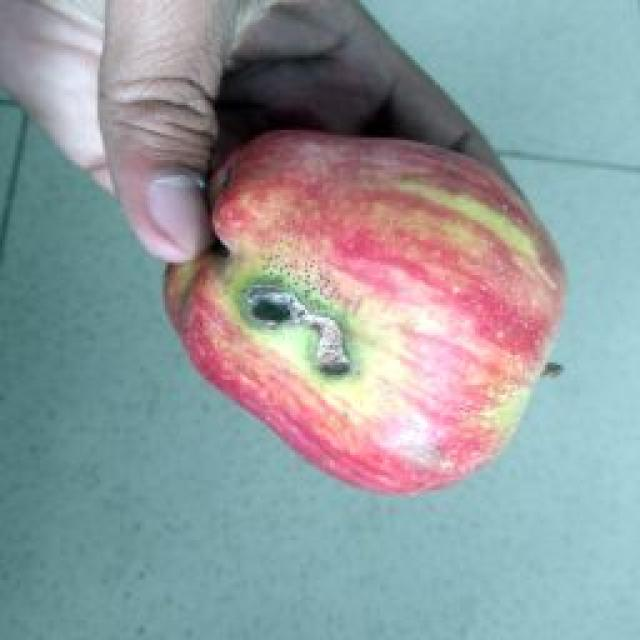Bad_Apple: (170, 134, 561, 492)
